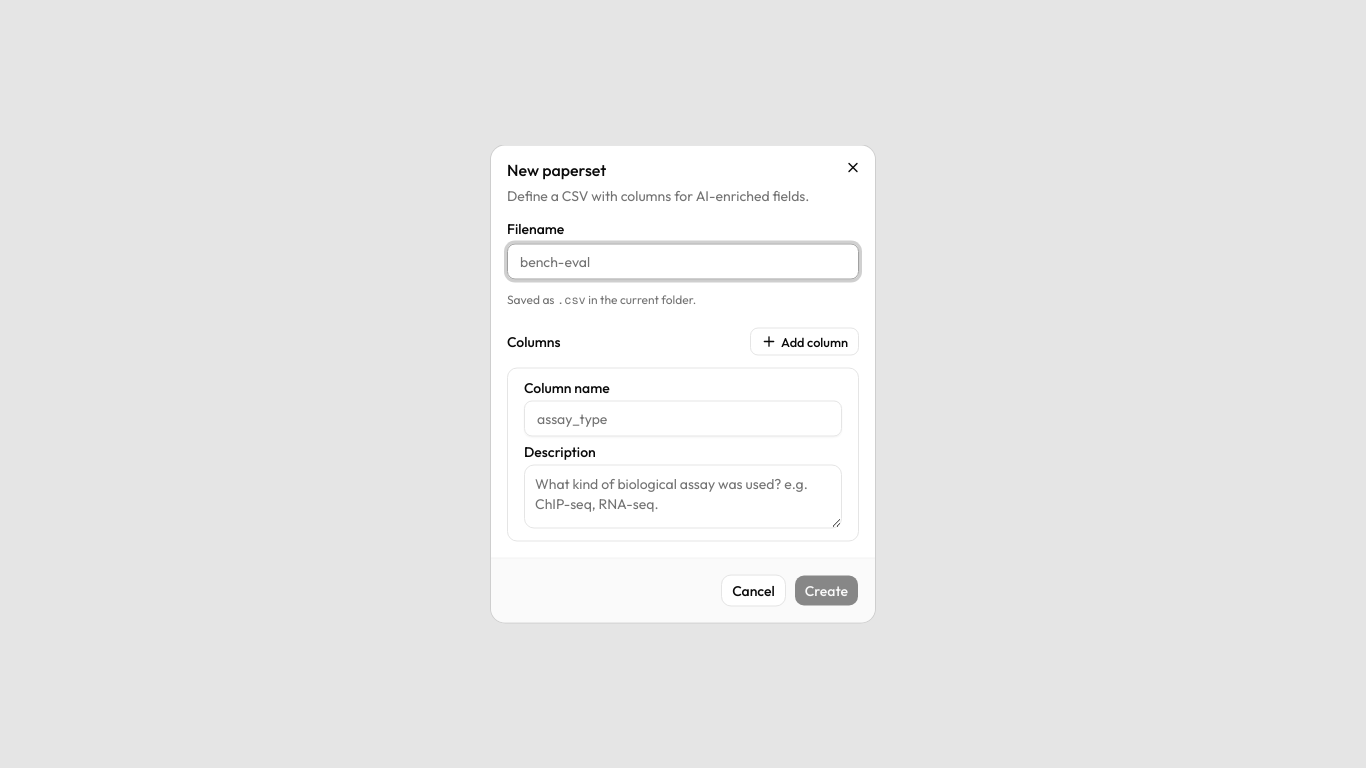
Test: PapersetCreateDialog › submit disabled when filename empty or columns incomplete
The image size is (1366, 768).
Check: the button "Create" is disabled, box [794,574,859,606]
Type "x" into the field labelled "Filename".
click(683, 262); type("x")  # box [507,244,859,280]
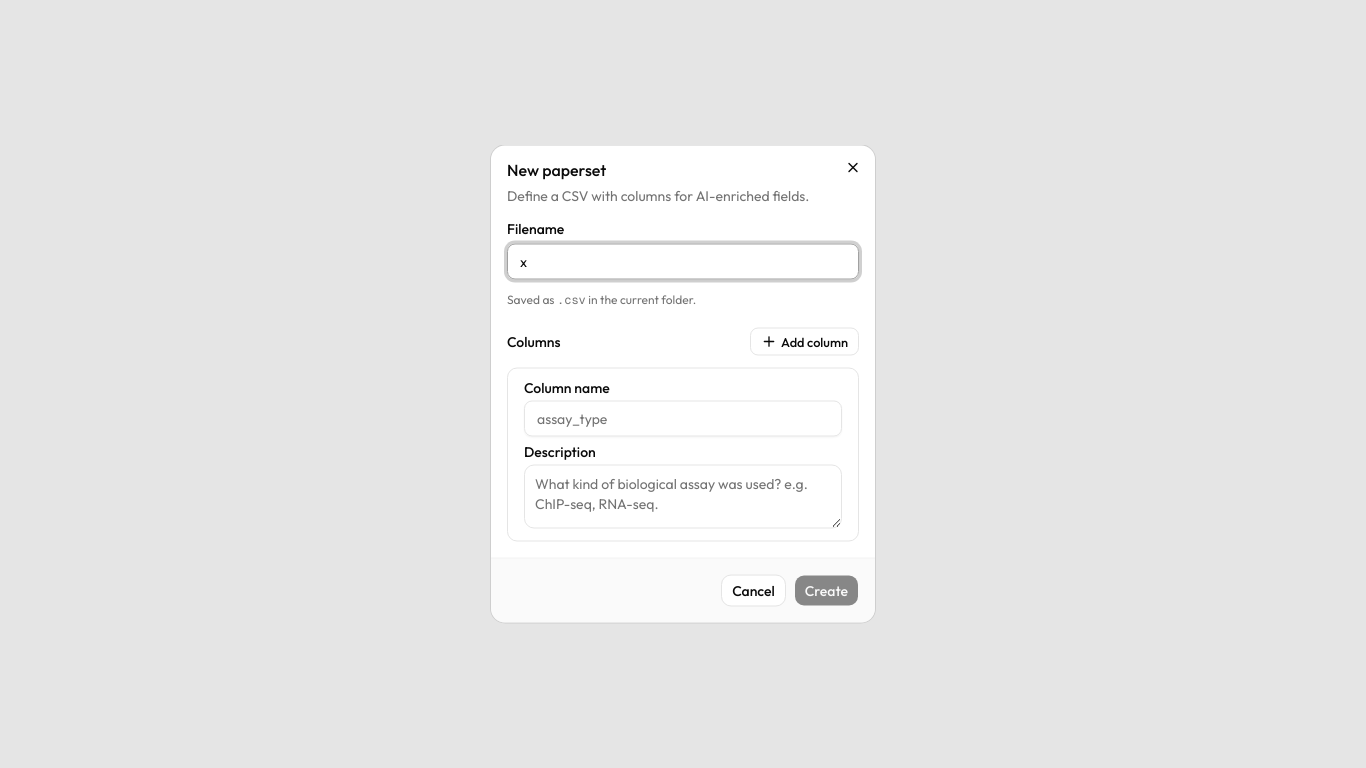
Check: the button "Create" is disabled, box [794,574,859,606]
Type "n" into the field labelled "Column name".
click(683, 418); type("n")  # box [524,400,842,436]
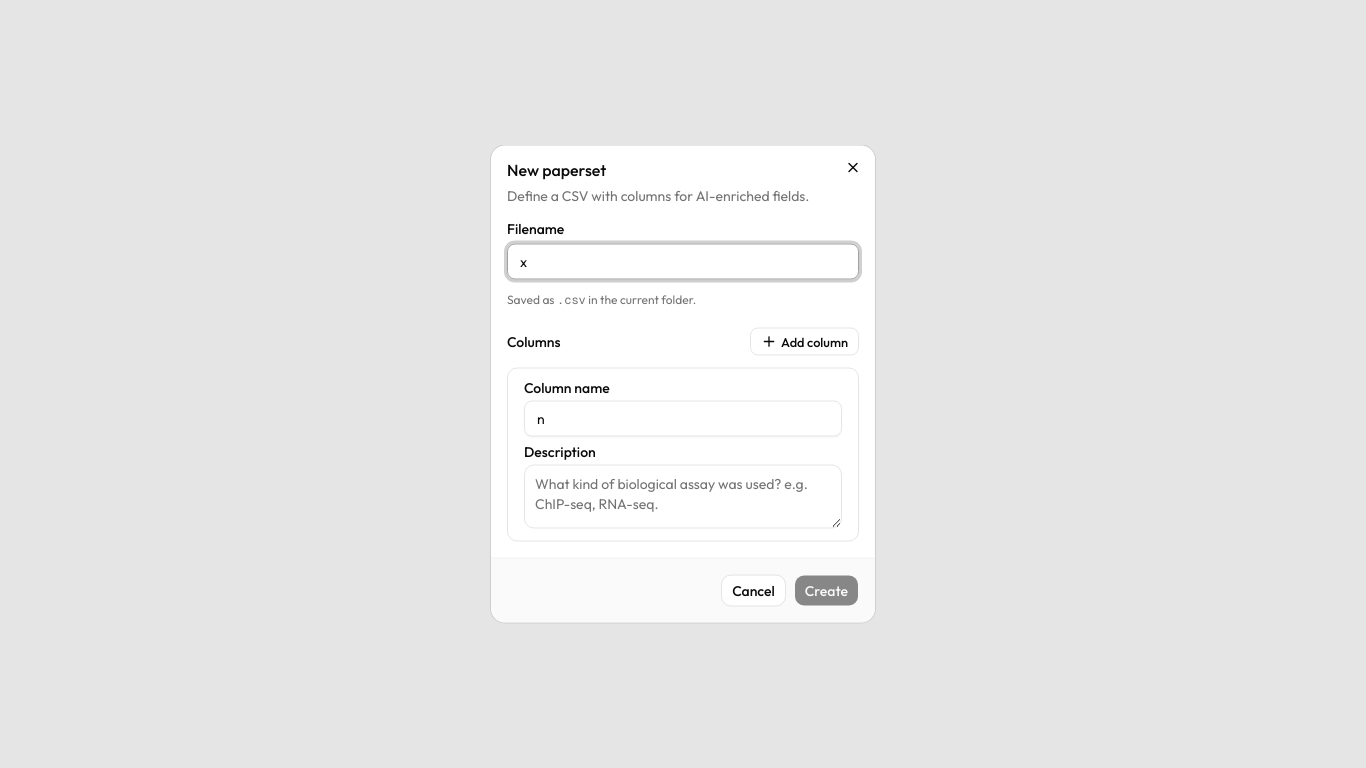
Check: the button "Create" is disabled, box [794,574,859,606]
Replace the text in the text box labelled "Description" with "d" at (683, 496), box [524,464,842,528]
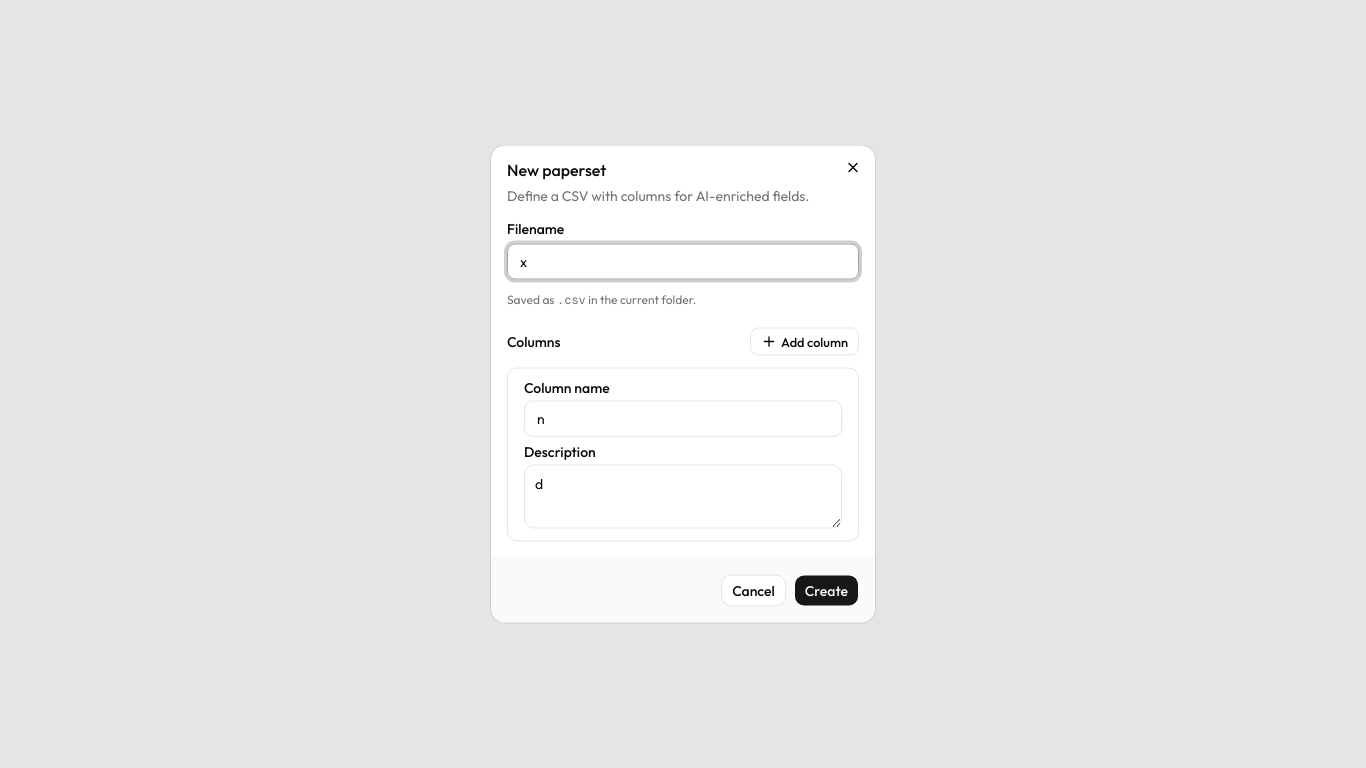
Check: the button "Create" is enabled, box [794,574,859,606]
